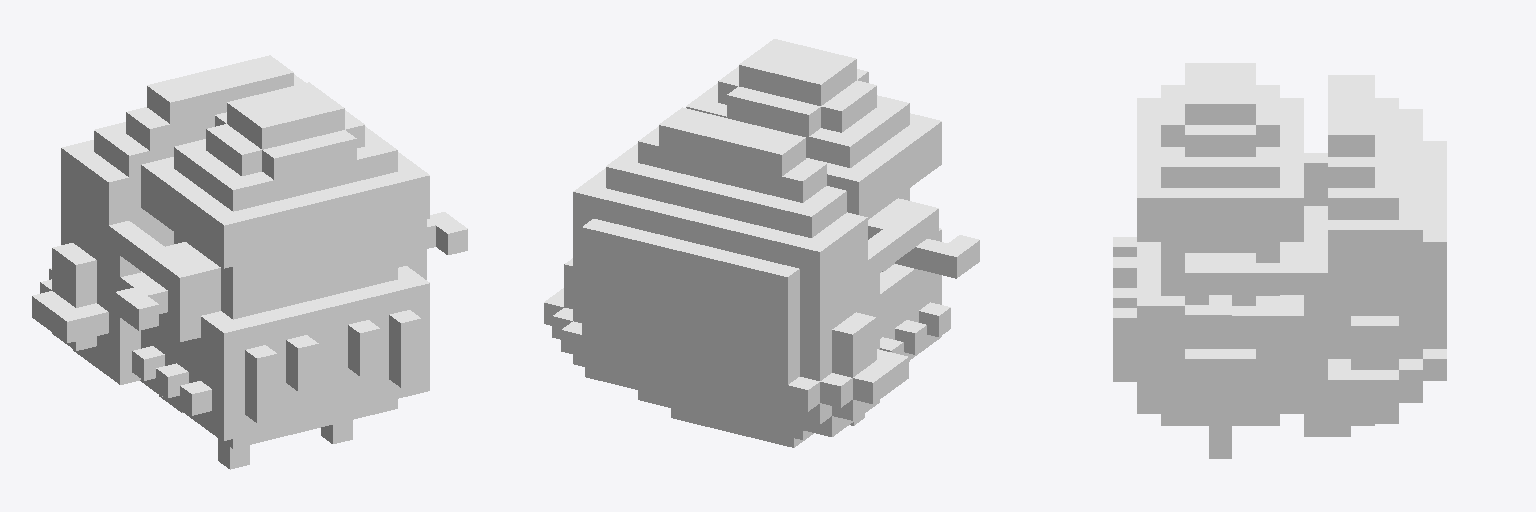
Rendered from Solider.obj.
3 views of the same model, side by side, from view 1: azimuth 30°, elevation 25°; view 2: azimuth 150°, elevation 25°; view 3: azimuth 270°, elevation 25° (orthographic).
Visible parts, largest first — view 1: object 1; view 2: object 1; view 3: object 1.
Boxes of the visible parts, box(x1,y1,x2,y2) form: object 1: box(32, 55, 467, 469); object 1: box(544, 39, 979, 447); object 1: box(1113, 63, 1446, 458).
Size of the model in its own units: 1.6 by 1.6 by 1.4.